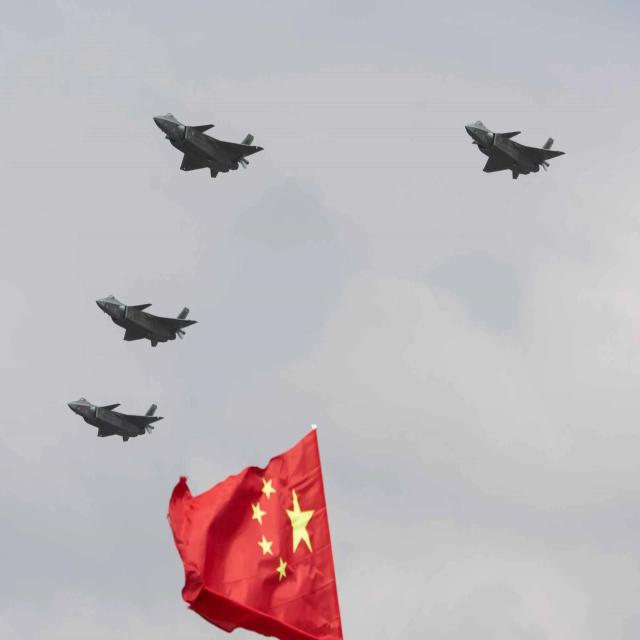MIL_Plane: (153, 112, 264, 178), (464, 120, 567, 179), (95, 294, 199, 347), (67, 397, 165, 442)
